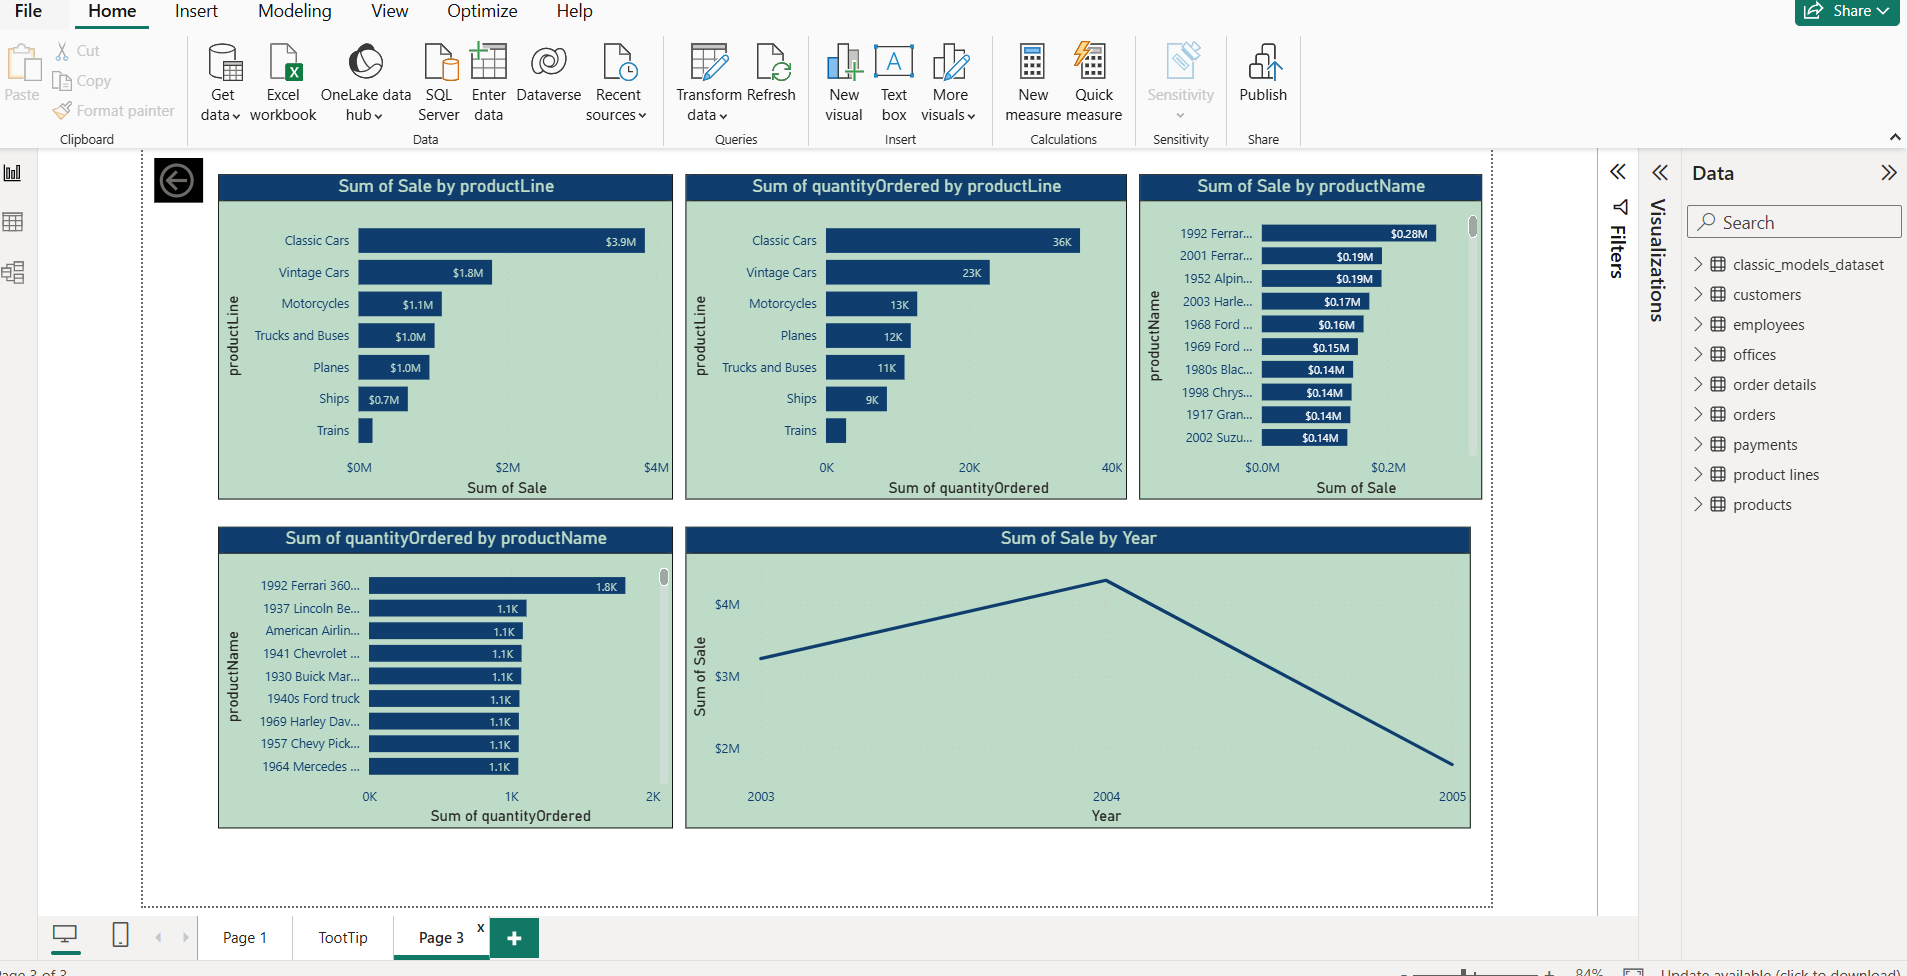

What the dashboard file says about the page in this screenshot:
{"tool":"powerbi","page":{"name":"Page 3","canvas":[1280,720],"ordinal":2},"visuals":[{"type":"actionButton","box":[10.7,9.5,46.3,42.7],"z":0},{"type":"barChart","fields":{"Category":["product lines.productLine"],"Y":["Sum(order details.Sale)"]},"box":[71.2,24.9,432.1,308.6],"z":1000},{"type":"barChart","fields":{"Category":["product lines.productLine"],"Y":["Sum(order details.quantityOrdered)"]},"box":[515.1,24.9,419,308.6],"z":2000},{"type":"barChart","fields":{"Category":["products.productName"],"Y":["Sum(order details.Sale)"]},"box":[946,24.9,325.2,308.6],"z":3000},{"type":"barChart","fields":{"Category":["products.productName"],"Y":["Sum(order details.quantityOrdered)"]},"box":[71.2,359.6,432.1,286.1],"z":4000},{"type":"lineChart","fields":{"Category":["orders.orderDate.Variation.Date Hierarchy.Year","orders.orderDate.Variation.Date Hierarchy.Quarter","orders.orderDate.Variation.Date Hierarchy.Month","orders.orderDate.Variation.Date Hierarchy.Day"],"Y":["Sum(order details.Sale)"]},"box":[515.1,359.6,745.4,286.1],"z":5000}]}

Visuals, with their boxes on the page's 1280x720 design canvas (x1, y1, x2, y2). These are canvas units, not pixel positions in the 1907x976 screenshot, which may show the page scaled, cropped or inside an application window:
actionButton: [left=11, top=10, right=57, bottom=52]
barChart - product lines.productLine x Sum(order details.Sale): [left=71, top=25, right=503, bottom=334]
barChart - product lines.productLine x Sum(order details.quantityOrdered): [left=515, top=25, right=934, bottom=334]
barChart - products.productName x Sum(order details.Sale): [left=946, top=25, right=1271, bottom=334]
barChart - products.productName x Sum(order details.quantityOrdered): [left=71, top=360, right=503, bottom=646]
lineChart - orders.orderDate.Variation.Date Hierarchy.Year x orders.orderDate.Variation.Date Hierarchy.Quarter: [left=515, top=360, right=1260, bottom=646]
